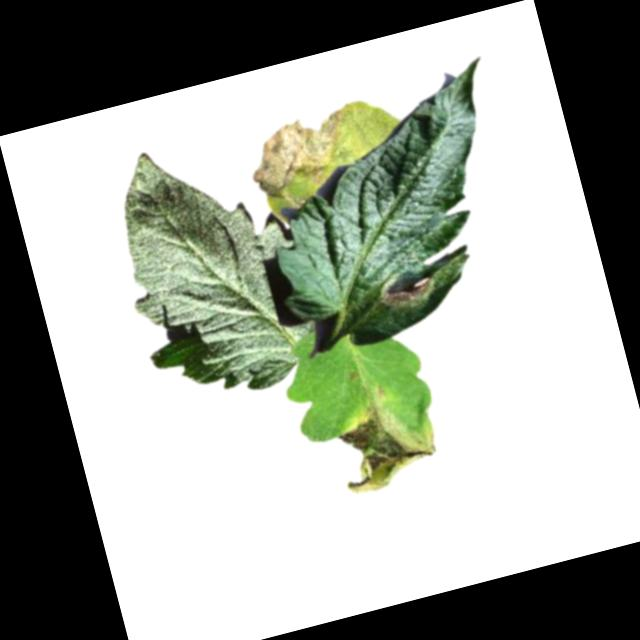Late_blight: (328, 388, 446, 498), (239, 103, 361, 201), (378, 273, 435, 309)
